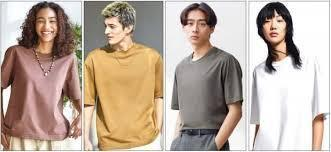Tshirt: (84, 41, 162, 146), (252, 54, 331, 152), (0, 43, 78, 139), (170, 47, 246, 132)
